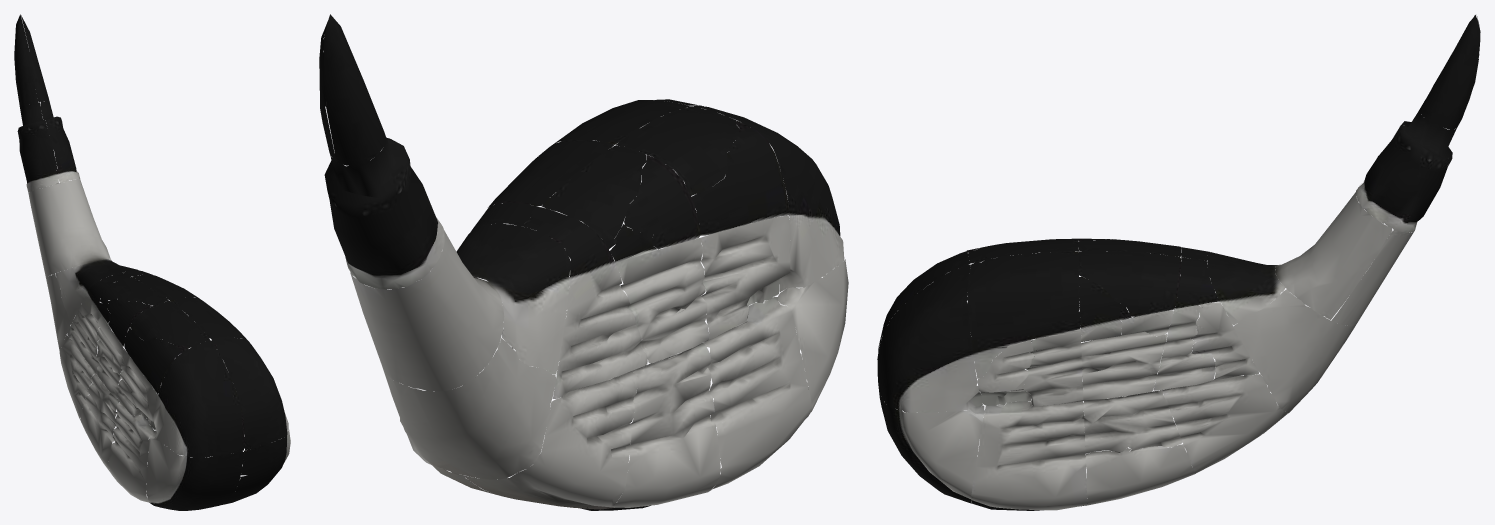
File: hybrid.glb
3 renders of one model, left to right at view 1: azimuth 30°, elevation 25°; view 2: azimuth 150°, elevation 25°; view 3: azimuth 270°, elevation 25°, orthographic. The views are drawn at different scales.
Parts seen in each view (by area): view 1: tripo_node_f1755457-a908-4a7b-af6f-76087d8548cf; view 2: tripo_node_f1755457-a908-4a7b-af6f-76087d8548cf; view 3: tripo_node_f1755457-a908-4a7b-af6f-76087d8548cf.
Boxes of the visible parts, x1,y1,x2,y2 form: tripo_node_f1755457-a908-4a7b-af6f-76087d8548cf: (14, 14, 290, 510); tripo_node_f1755457-a908-4a7b-af6f-76087d8548cf: (319, 14, 848, 510); tripo_node_f1755457-a908-4a7b-af6f-76087d8548cf: (877, 15, 1480, 510).
Bounding box in the file's own units: 0.3192 × 0.8723 × 1.
1 material, 1 textured.
